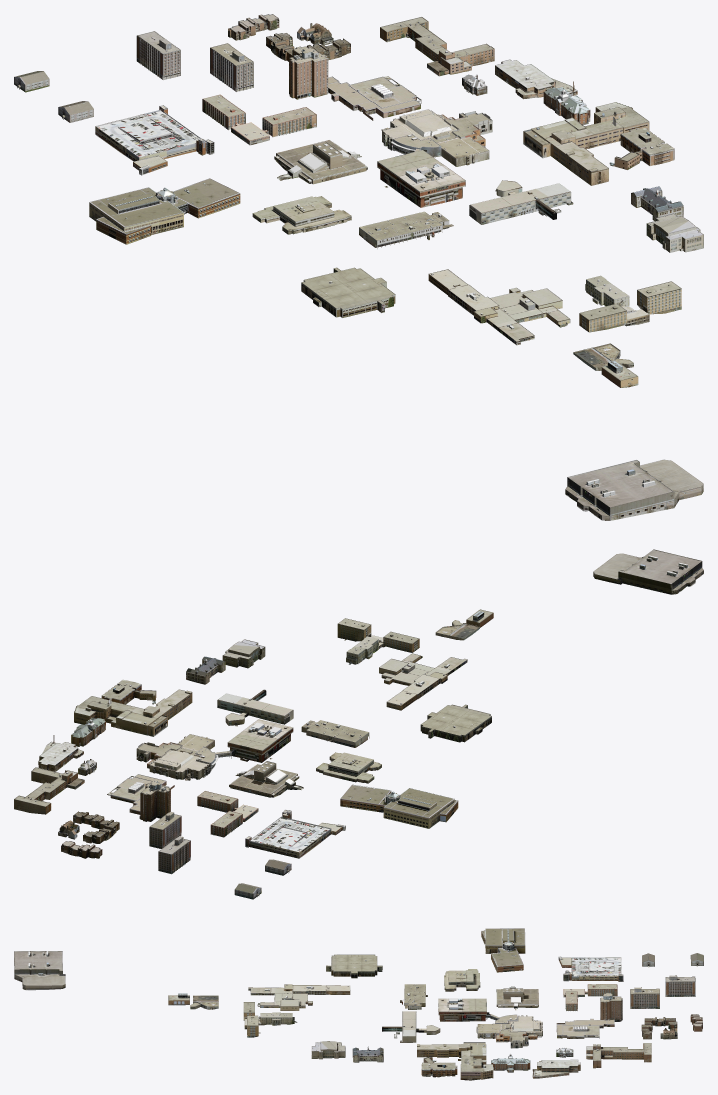
File: Facade.obj
3 renders of one model, top to bottom at view 1: azimuth 30°, elevation 25°; view 2: azimuth 150°, elevation 25°; view 3: azimuth 270°, elevation 25°, orthographic. The views are drawn at different scales.
Parts seen in each view (by area): view 1: STCL0198, STCL0101, STCL0122, STCL0159, STCL0212, STCL0082, STCL0160, STCL0158, STCL0087, STCL0179, STCL0156, STCL0129 (+16 smaller); view 2: STCL0198, STCL0101, STCL0122, STCL0159, STCL0160, STCL0082, STCL0212, STCL0087, STCL0158, STCL0179, STCL0129, STCL0156 (+15 smaller); view 3: STCL0198, STCL0122, STCL0101, STCL0159, STCL0082, STCL0212, STCL0160, STCL0158, STCL0087, STCL0179, STCL0129, STCL0156 (+14 smaller).
Part boxes in pixels (bbox=[...]): STCL0198: bbox=[565, 459, 703, 520]; STCL0101: bbox=[89, 178, 240, 244]; STCL0122: bbox=[523, 102, 649, 185]; STCL0159: bbox=[381, 109, 492, 166]; STCL0212: bbox=[289, 46, 421, 120]; STCL0082: bbox=[428, 269, 570, 345]; STCL0160: bbox=[95, 105, 214, 175]; STCL0158: bbox=[377, 150, 465, 207]; STCL0087: bbox=[301, 267, 395, 317]; STCL0179: bbox=[380, 17, 494, 76]; STCL0156: bbox=[469, 180, 573, 224]; STCL0129: bbox=[274, 140, 367, 184]; STCL0198: bbox=[593, 549, 703, 594]; STCL0101: bbox=[340, 784, 458, 828]; STCL0122: bbox=[74, 689, 192, 736]; STCL0159: bbox=[136, 734, 234, 780]; STCL0160: bbox=[245, 809, 345, 858]; STCL0082: bbox=[379, 653, 467, 710]; STCL0212: bbox=[107, 774, 174, 821]; STCL0087: bbox=[420, 704, 491, 742]; STCL0158: bbox=[227, 719, 293, 762]; STCL0179: bbox=[14, 767, 84, 814]; STCL0129: bbox=[229, 761, 303, 797]; STCL0156: bbox=[217, 689, 293, 726]; STCL0198: bbox=[14, 951, 65, 990]; STCL0122: bbox=[417, 1042, 493, 1080]; STCL0101: bbox=[481, 928, 525, 972]; STCL0159: bbox=[476, 1014, 542, 1048]; STCL0082: bbox=[248, 984, 350, 1010]; STCL0212: bbox=[556, 993, 622, 1038]; STCL0160: bbox=[558, 956, 623, 981]; STCL0158: bbox=[438, 998, 489, 1021]; STCL0087: bbox=[326, 954, 382, 978]; STCL0179: bbox=[586, 1043, 651, 1068]; STCL0129: bbox=[496, 986, 538, 1010]; STCL0156: bbox=[382, 1011, 440, 1042].
Bounding box in the file's own units: 20627 × 1854 × 41519.
Materials: 33 (33 with a texture image).
